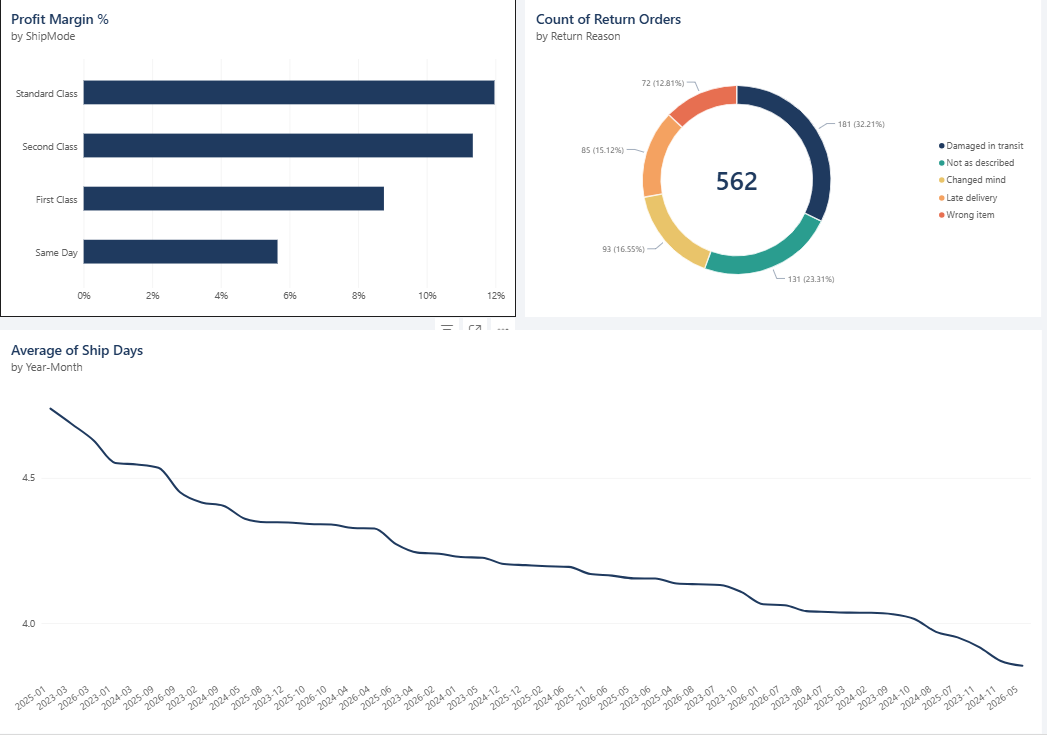

This screenshot's page, from the dashboard's own definition file:
{"tool":"powerbi","page":{"name":"Operations","canvas":[1920,1080],"ordinal":3},"visuals":[{"type":"barChart","fields":{"Category":["orders.ShipMode"],"Y":["customers.Profit Margin %"]},"box":[125.5,7.3,752.8,464],"z":0},{"type":"donutChart","fields":{"Category":["returns.Return Reason"],"Y":["CountNonNull(returns.Returned Orders)"]},"box":[891.4,7.3,752.8,464],"z":1},{"type":"lineChart","fields":{"Category":["DateTable.Year-Month"],"Y":["Avg(orders.Ship Days)"]},"box":[125.5,490.2,1520.2,589.4],"z":2}]}

Visuals, with their boxes on the page's 1920x1080 design canvas (x1, y1, x2, y2). These are canvas units, not pixel positions in the 1047x735 screenshot, which may show the page scaled, cropped or inside an application window:
barChart - orders.ShipMode x customers.Profit Margin %: crop(126, 7, 878, 471)
donutChart - returns.Return Reason x CountNonNull(returns.Returned Orders): crop(891, 7, 1644, 471)
lineChart - DateTable.Year-Month x Avg(orders.Ship Days): crop(126, 490, 1646, 1080)
